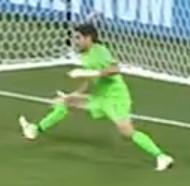goalkeeper: (11, 20, 182, 178)
